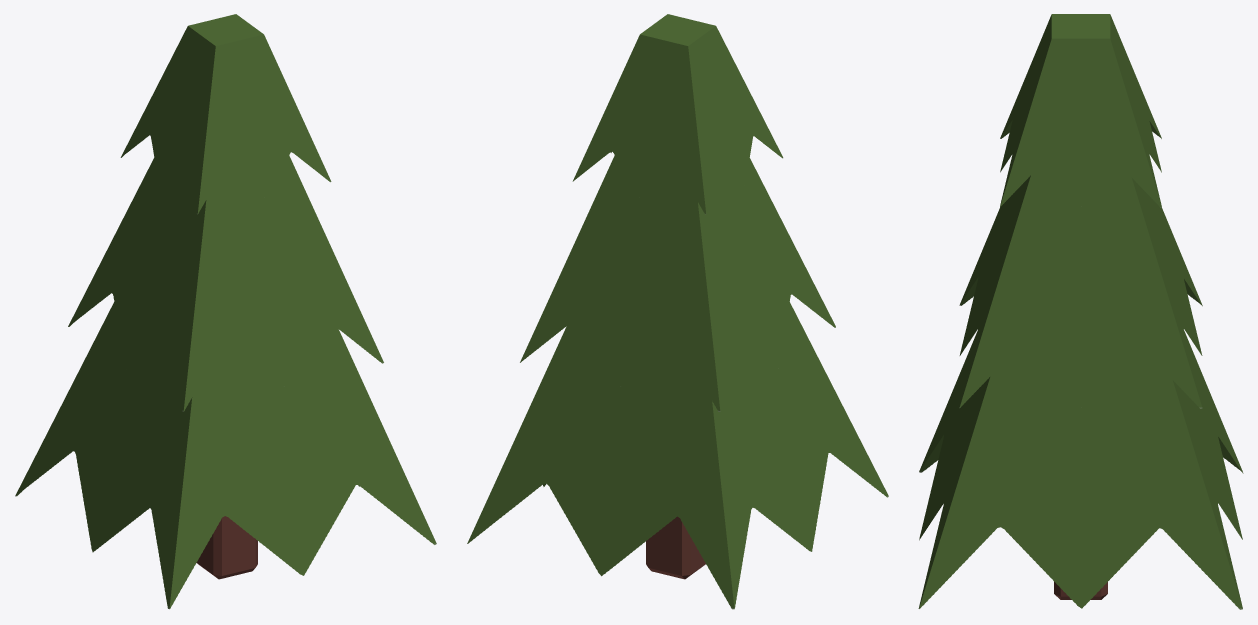
The model's file is Tree 2.fbx.
The picture shows the model from 3 angles, left to right: view 1: azimuth 30°, elevation 25°; view 2: azimuth 150°, elevation 25°; view 3: azimuth 270°, elevation 25°; orthographic projection. The views are drawn at different scales.
Visible parts, largest first — view 1: Tree_Crown_3, Tree_Crown_2, Tree_Crown_1, Trunk; view 2: Tree_Crown_3, Tree_Crown_2, Tree_Crown_1, Trunk; view 3: Tree_Crown_3, Tree_Crown_2, Tree_Crown_1.
Boxes of the visible parts, <box> form: Tree_Crown_3: <box>15,302,436,609</box>; Tree_Crown_2: <box>68,155,383,411</box>; Tree_Crown_1: <box>120,14,331,214</box>; Trunk: <box>196,516,257,579</box>; Tree_Crown_3: <box>467,302,888,609</box>; Tree_Crown_2: <box>520,155,835,411</box>; Tree_Crown_1: <box>572,14,783,214</box>; Trunk: <box>646,516,705,579</box>; Tree_Crown_3: <box>918,329,1243,609</box>; Tree_Crown_2: <box>959,166,1202,408</box>; Tree_Crown_1: <box>1000,14,1161,207</box>.
Size of the model in its own units: 1.2 by 2.3 by 1.2.
Materials: 1 (1 with a texture image).
